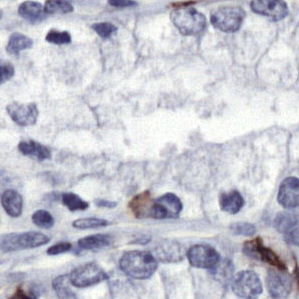Lymphocyte: (244, 234, 290, 275)
